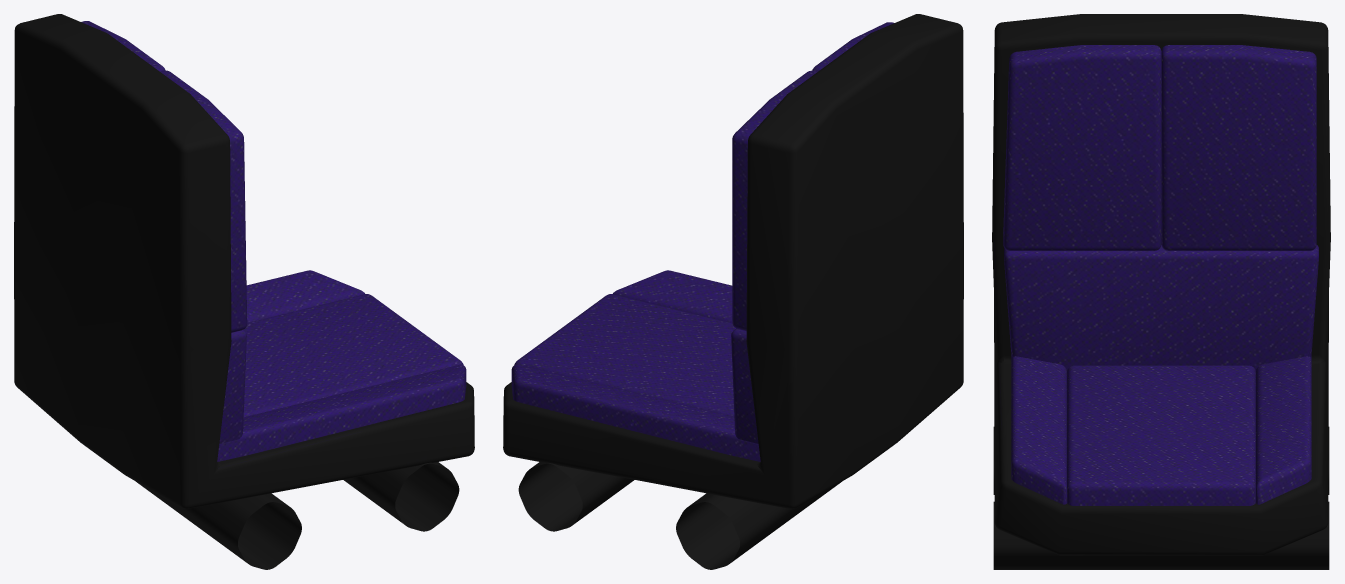
File: Vico_Object_Chair_Bank.fbx
3 renders of one model, left to right at view 1: azimuth 30°, elevation 25°; view 2: azimuth 150°, elevation 25°; view 3: azimuth 270°, elevation 25°, orthographic. The views are drawn at different scales.
Visible parts, largest first — view 1: Char_Bank; view 2: Char_Bank; view 3: Char_Bank.
Part boxes in pixels (<box>): Char_Bank: <box>14,14,474,569</box>; Char_Bank: <box>503,14,963,569</box>; Char_Bank: <box>992,14,1330,569</box>.
Size of the model in its own units: 52.12 by 69.36 by 48.15.
